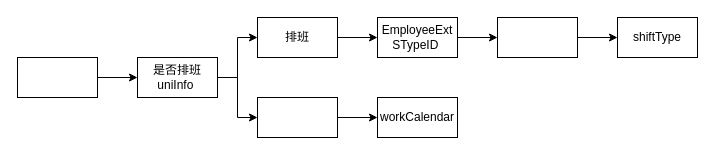
Some shapes in this 715 by 155 pixel diagram are drawn without their labels. The centre of each missing label's shape, as x and y in pixels:
"workShift" belongs at point 537,37.
"選擇員工" belongs at point 57,77.
"非排班" belongs at point 297,117.
